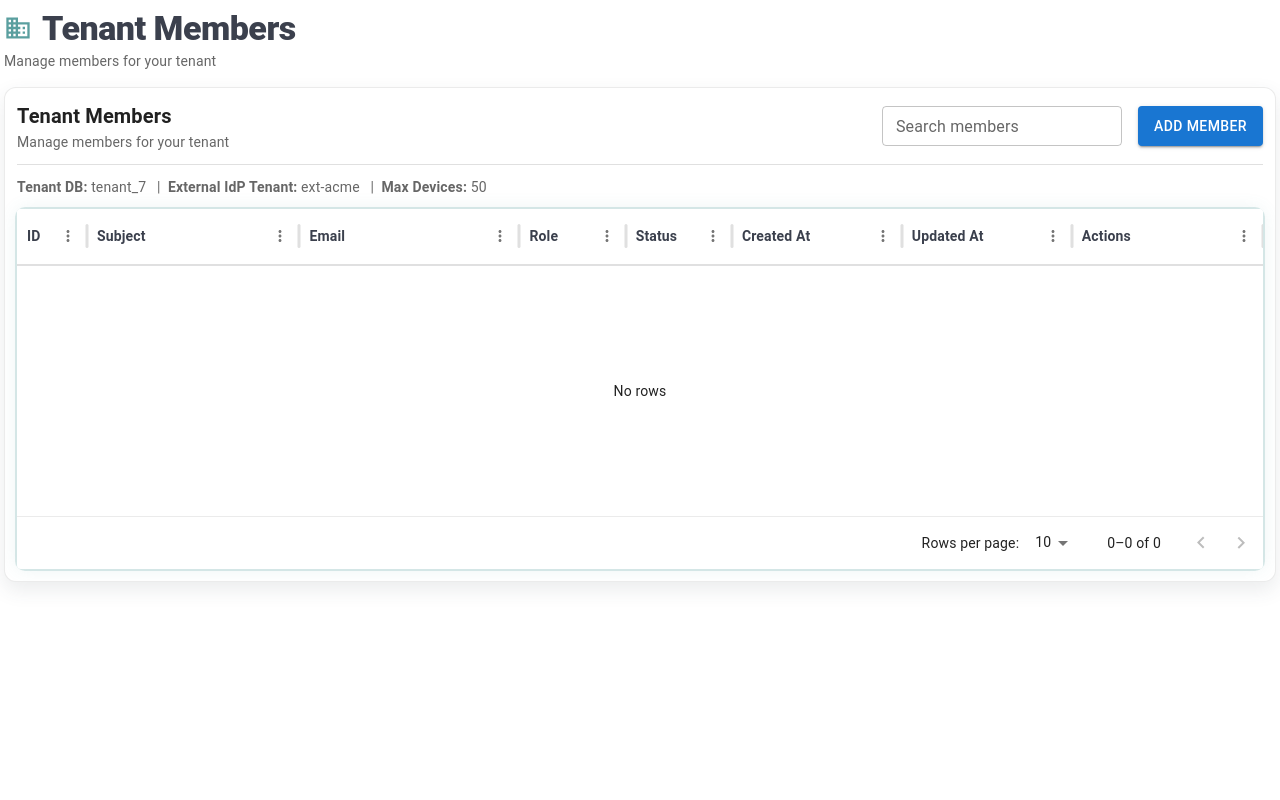
Test: TenantsAdministrator — invite a new member › disables Send Invite until an email is entered
The image size is (1280, 800).
Click the button "Add Member" at (1200, 126), box [1138,106,1263,146]
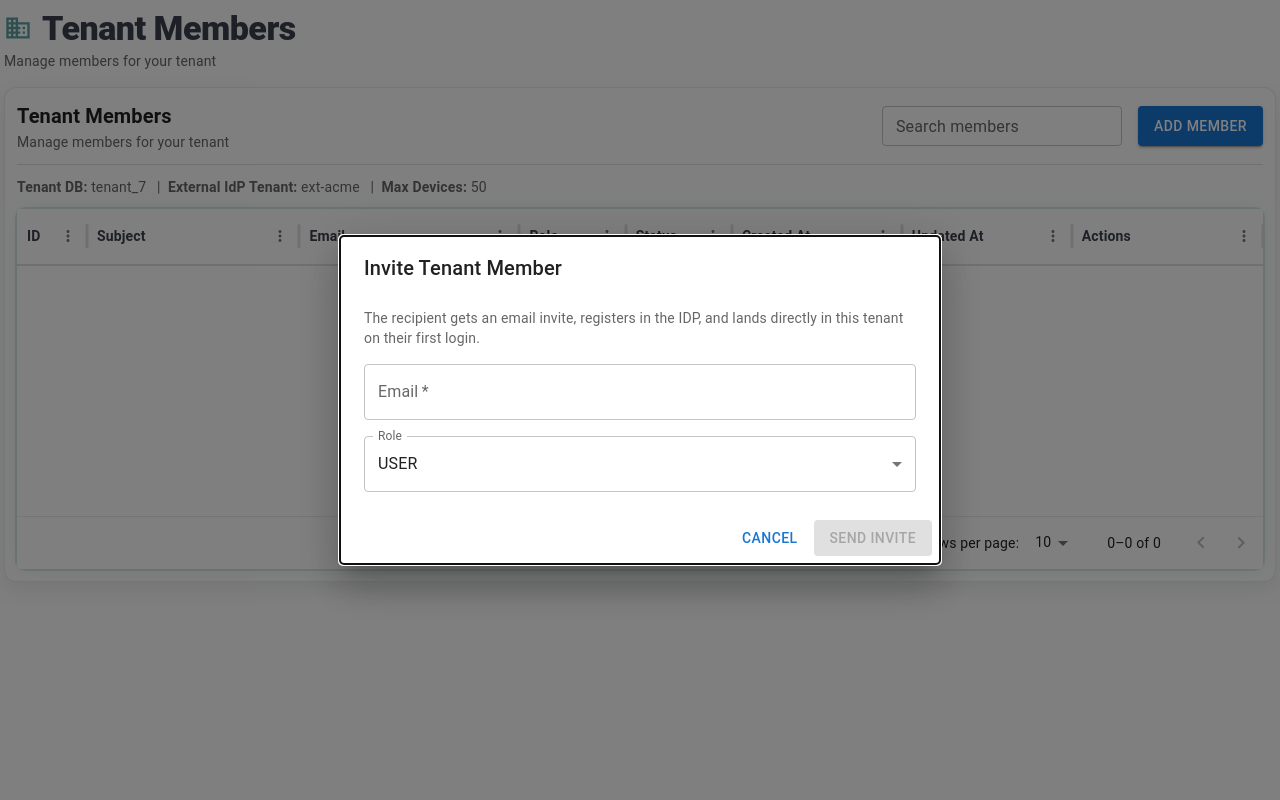
Expected: the button "Send Invite" is disabled, [814,520,932,556]
Type "new.person@acme.com" into the field labelled "Email *" at (640, 392), box [364,364,916,420]
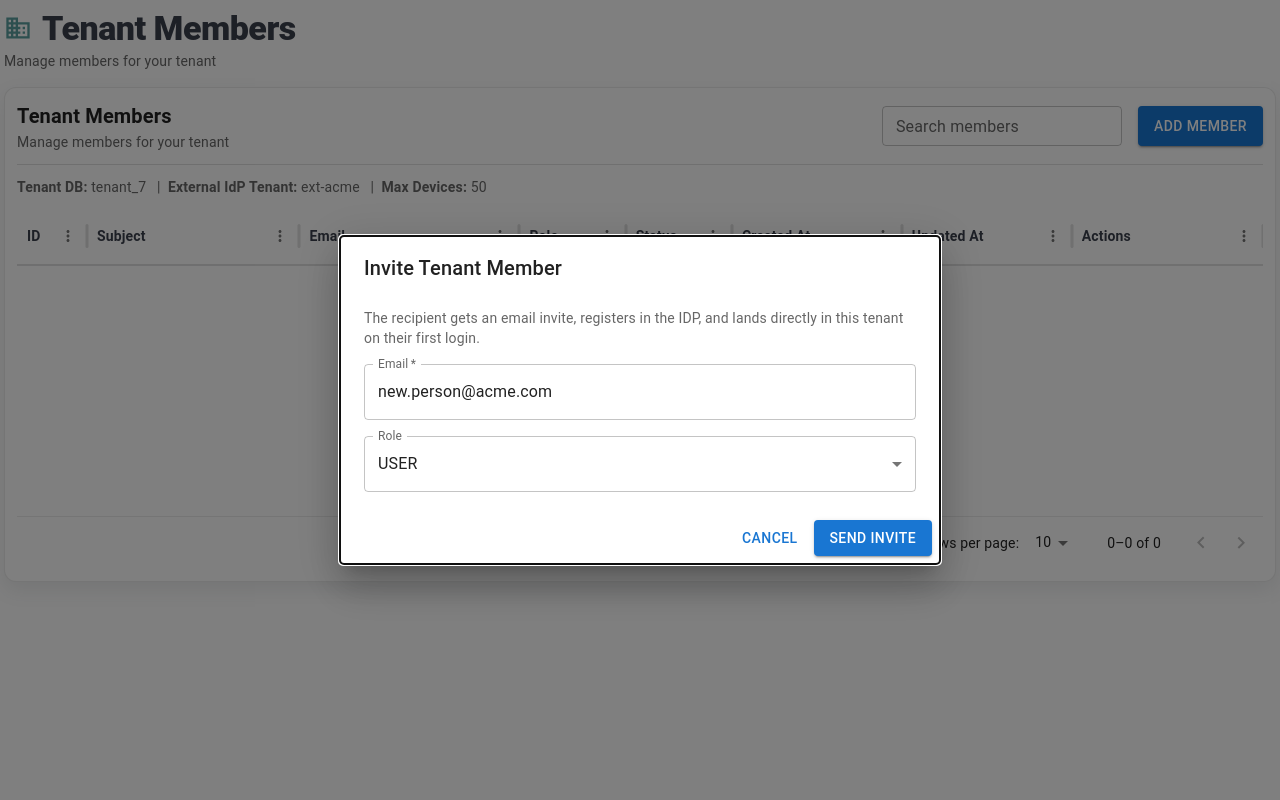
Expected: the button "Send Invite" is enabled, [814,520,932,556]
